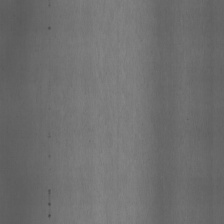oil_spot: (47, 129, 52, 163), (46, 187, 51, 220), (47, 22, 51, 34)
